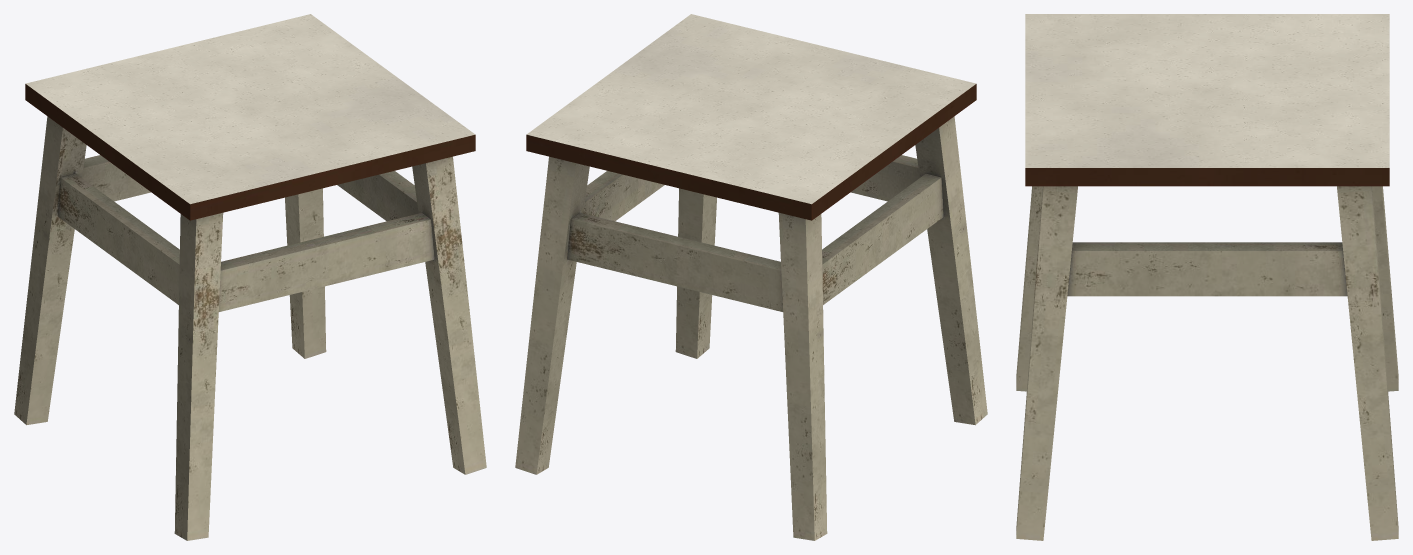
Rendered from stool_cream_web.glb.
3 views of the same model, side by side, from view 1: azimuth 30°, elevation 25°; view 2: azimuth 150°, elevation 25°; view 3: azimuth 270°, elevation 25° (orthographic). The views are drawn at different scales.
Visible parts, largest first — view 1: StoolCream_Mesh; view 2: StoolCream_Mesh; view 3: StoolCream_Mesh.
Boxes of the visible parts, left/top/right/bottom form: StoolCream_Mesh: left=14, top=14, right=486, bottom=540; StoolCream_Mesh: left=515, top=14, right=987, bottom=540; StoolCream_Mesh: left=1016, top=14, right=1398, bottom=540.
Bounding box in the file's own units: 0.4201 × 0.4495 × 0.4199.
1 material, 1 textured.
